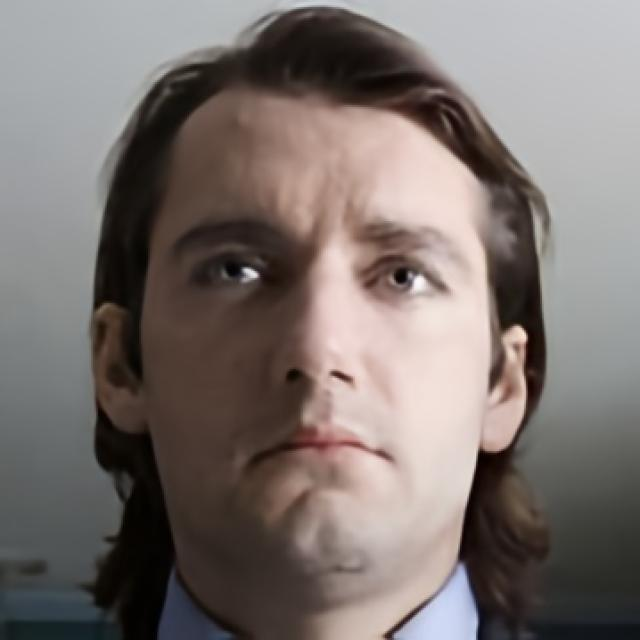neutral: (141, 87, 492, 583)
